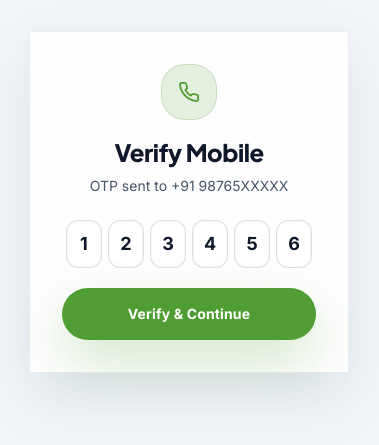
Test: OtpView › shows an error and does not advance when verification fails
Step 1. Click the button "Verify & Continue" → point(189, 314), box [62,288,316,340]
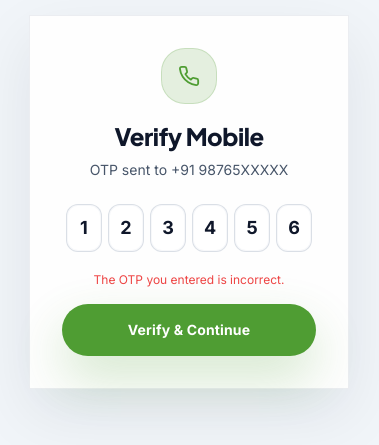
Now the text "The OTP you entered is incorrect." is shown, box [94,272,284,287]
